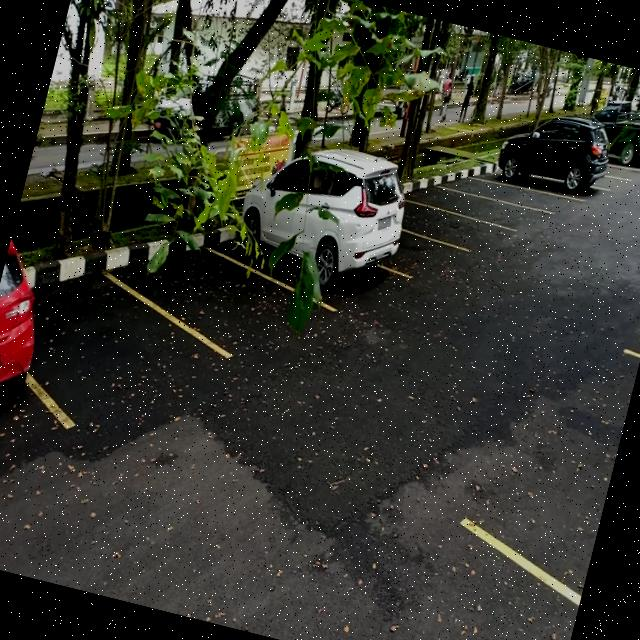empty: (21, 266, 202, 432), (128, 237, 294, 361), (417, 180, 539, 234), (461, 169, 574, 219), (400, 200, 496, 256)
occupied: (208, 182, 406, 313), (491, 134, 610, 208)
